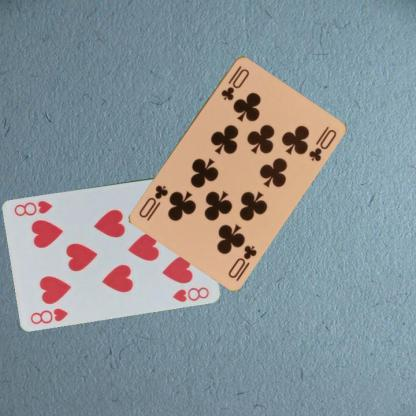10c: (218, 62, 251, 102), (226, 242, 258, 279)
8h: (28, 305, 69, 325)
